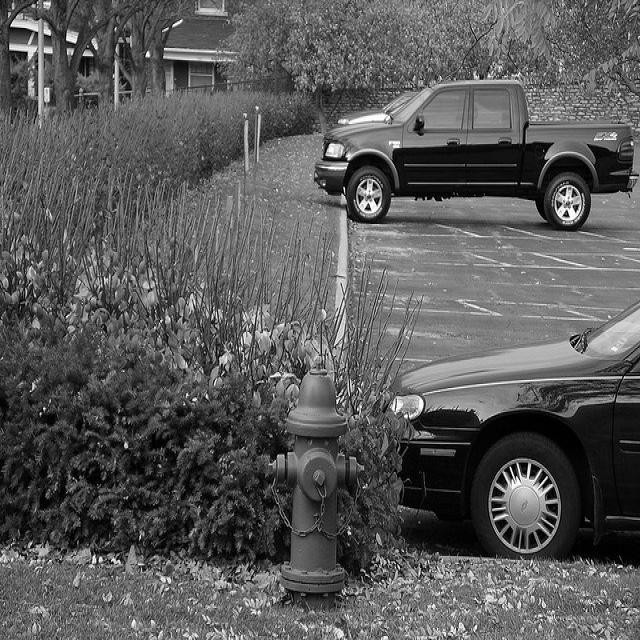car: (388, 301, 637, 560), (335, 87, 417, 121), (345, 91, 417, 124)
fire_hydrant: (265, 358, 362, 594)
truck: (310, 80, 634, 232)
